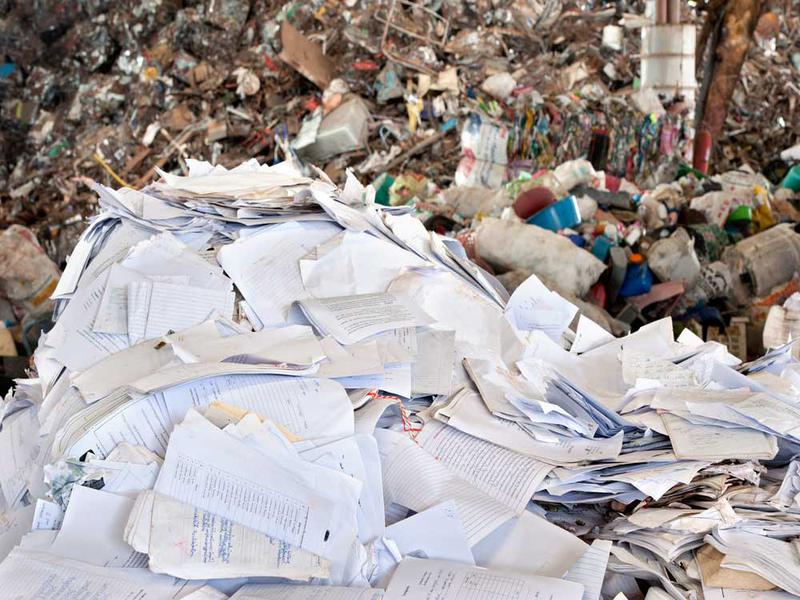paper: (130, 409, 363, 591), (369, 423, 561, 551), (616, 344, 800, 463), (454, 354, 630, 443), (90, 262, 244, 342), (143, 159, 318, 225), (377, 551, 598, 600), (601, 495, 750, 564), (599, 493, 748, 562), (119, 355, 325, 397), (289, 290, 440, 347), (310, 169, 415, 244), (496, 276, 581, 352)
